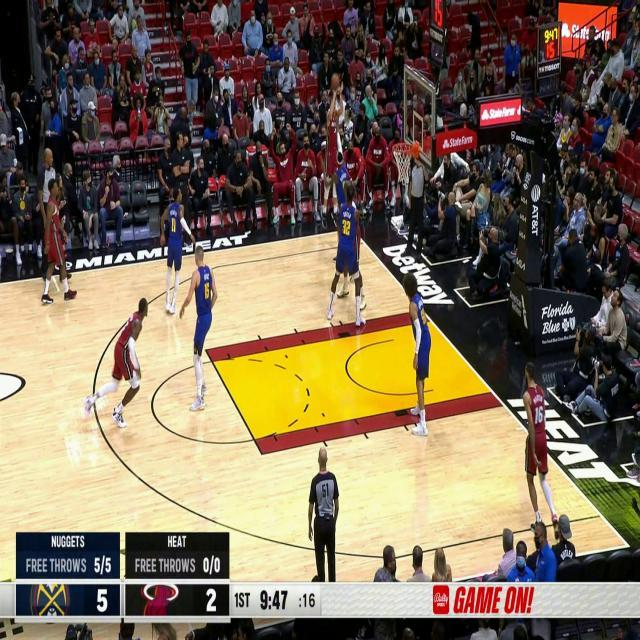rim: (332, 74, 339, 90)
